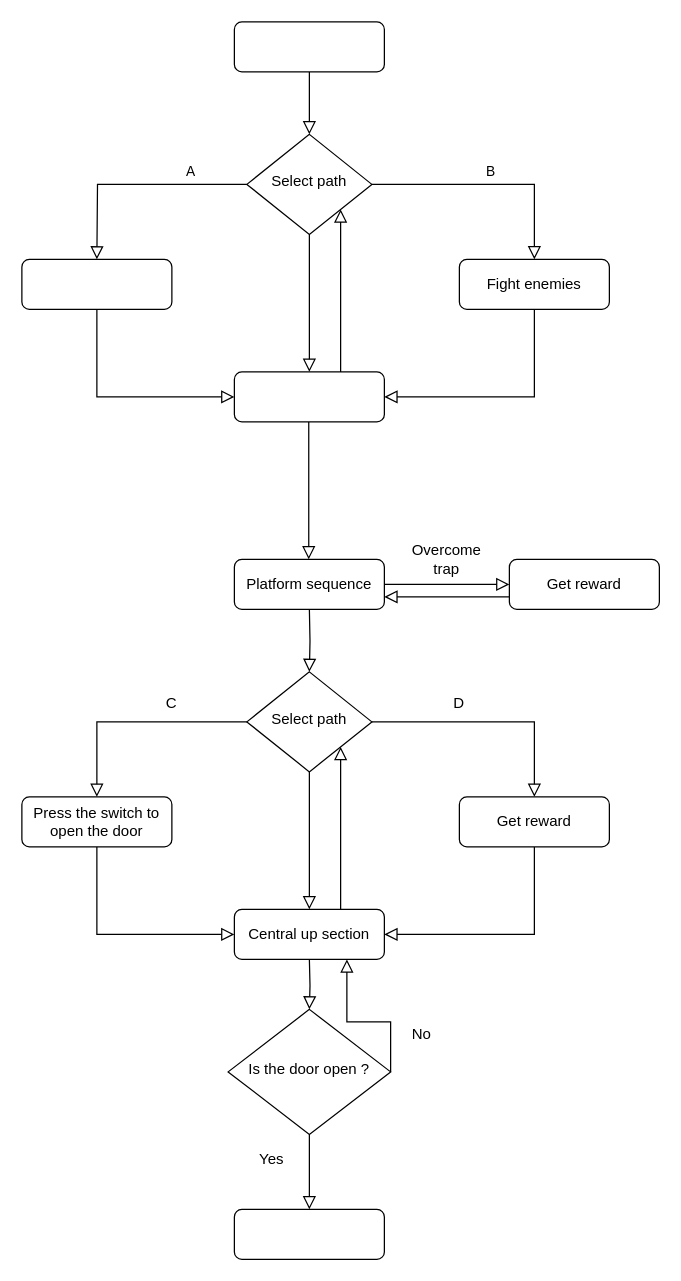
The diagram is 681 pixels wide and 1281 high, and some of its shapes have lost their labels. Each missing label, with the centre of its shape:
"Central down section" goes at [308,396].
"End" goes at [308,1233].
"Fight enemies and get the reward" goes at [96,283].
"Start" goes at [308,46].
